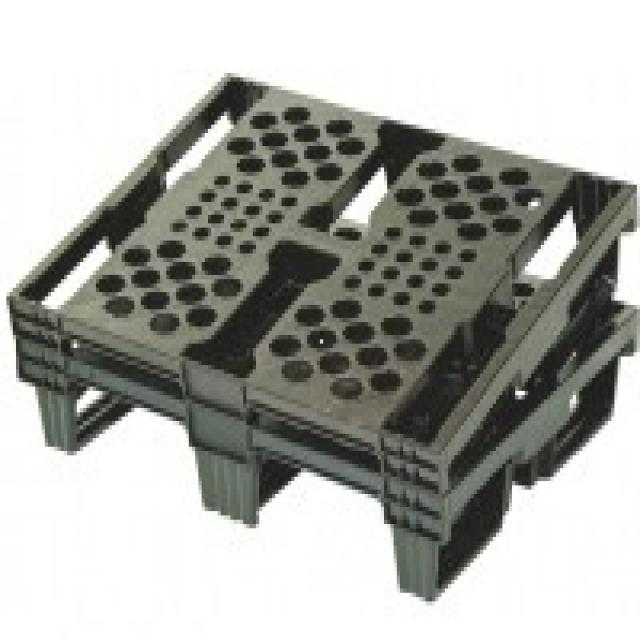Palette: (0, 64, 640, 600)
